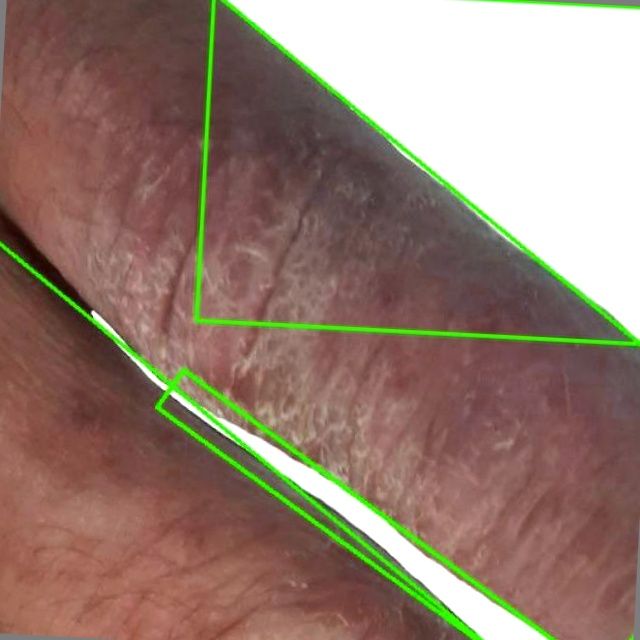Contact Dermatitis: (0, 0, 639, 639), (196, 0, 639, 344), (157, 369, 553, 639)
